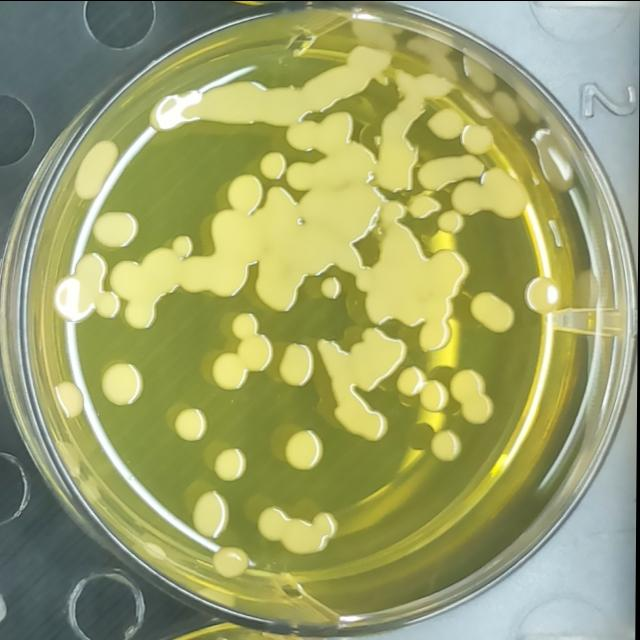StaphyloPositive: (320, 326, 409, 444), (104, 238, 196, 330), (208, 311, 280, 391), (420, 246, 470, 356), (259, 502, 352, 558), (447, 164, 533, 218), (410, 152, 493, 194), (71, 136, 121, 203), (97, 354, 151, 412), (448, 366, 498, 426), (89, 204, 143, 252), (185, 488, 232, 543), (470, 289, 522, 338), (396, 365, 451, 411), (279, 335, 314, 394), (285, 426, 326, 474), (209, 538, 253, 581), (525, 272, 566, 314), (172, 404, 211, 448), (210, 444, 250, 486), (424, 103, 466, 142), (426, 426, 467, 464), (434, 207, 467, 240), (257, 148, 289, 182), (316, 273, 346, 308)
